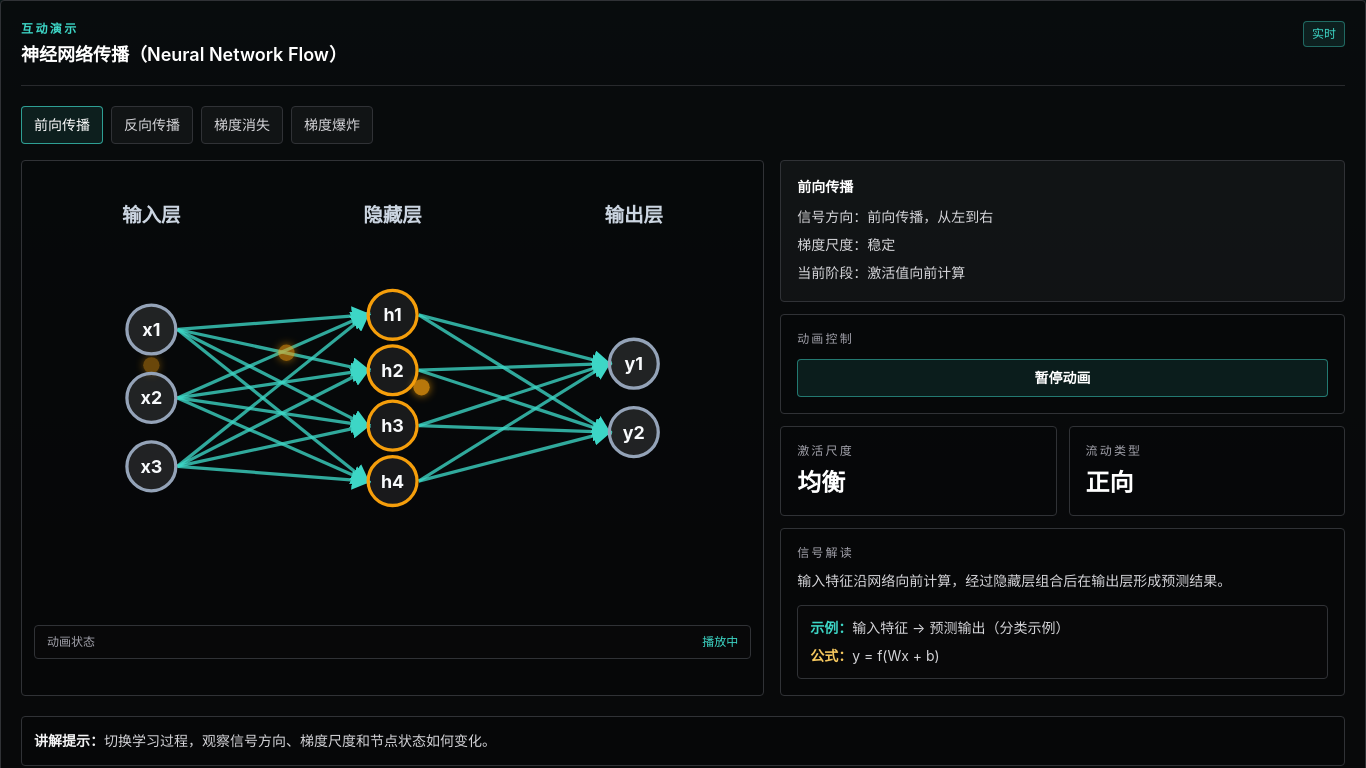
Test: NeuralNetworkFlowDemo › switches to backprop mode with reverse direction and update equation
Click the button "反向传播": (152, 125) left=111, top=106, right=193, bottom=144
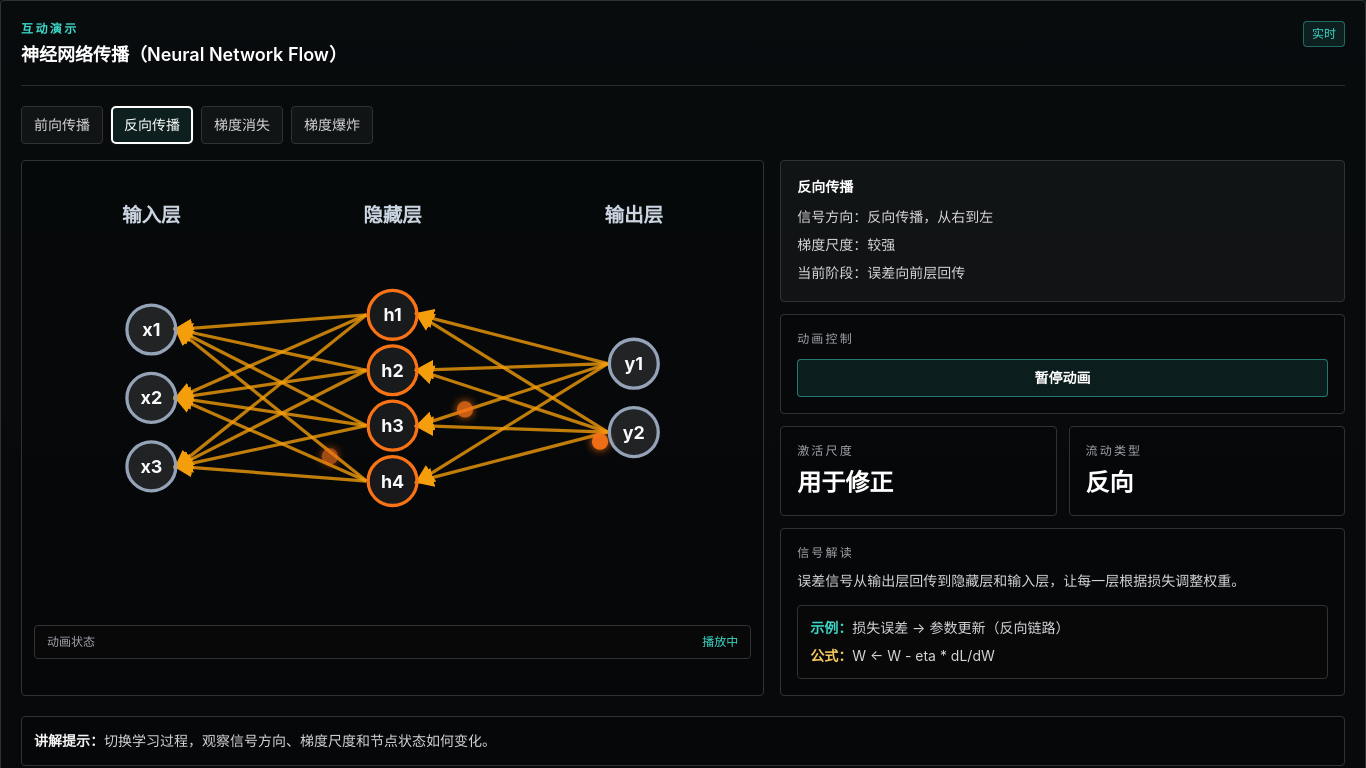
Now the text "信号方向：反向传播，从右到左" is shown, box left=797, top=208, right=993, bottom=225
Now the text "公式：W <- W - eta * dL/dW" is shown, box left=810, top=647, right=995, bottom=664
